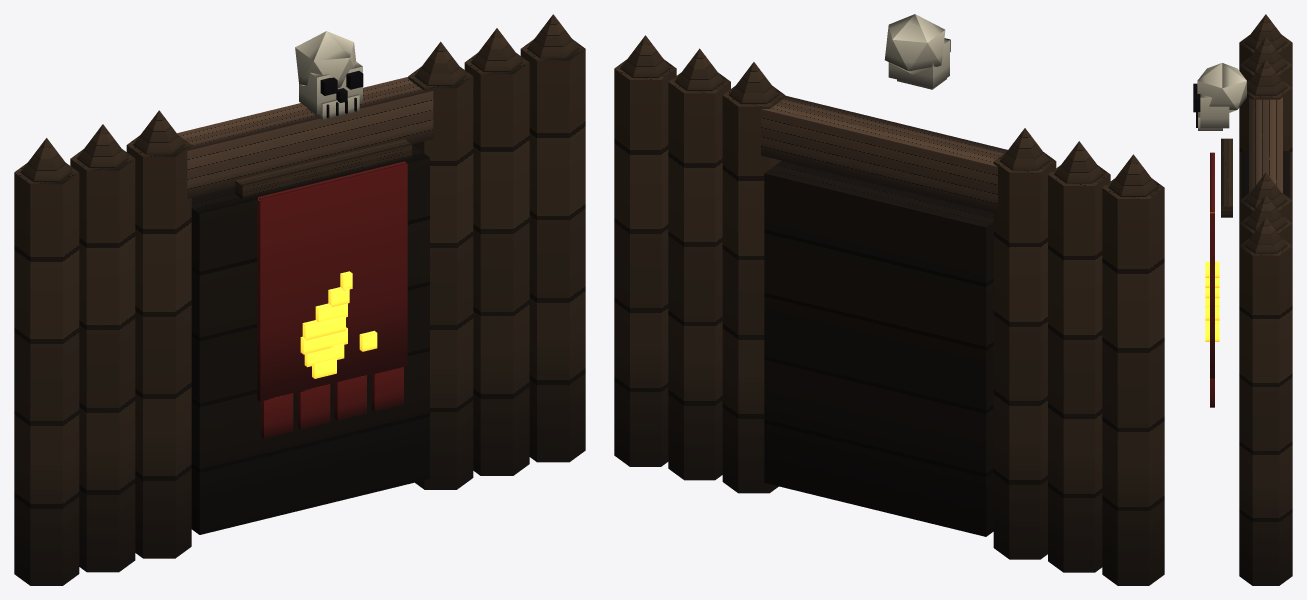
Rendered from palisade_gate.gltf.
The picture shows the model from 3 angles, left to right: view 1: azimuth 30°, elevation 25°; view 2: azimuth 150°, elevation 25°; view 3: azimuth 270°, elevation 25°; orthographic projection. The views are drawn at different scales.
Visible parts, largest first — view 1: palisade_gate; view 2: palisade_gate; view 3: palisade_gate.
Part boxes in pixels (<box>): palisade_gate: <box>14,14,585,585</box>; palisade_gate: <box>614,14,1164,585</box>; palisade_gate: <box>1193,14,1292,585</box>.
Bounding box in the file's own units: 2.17 × 1.87 × 0.4088.
1 material, 1 textured.
